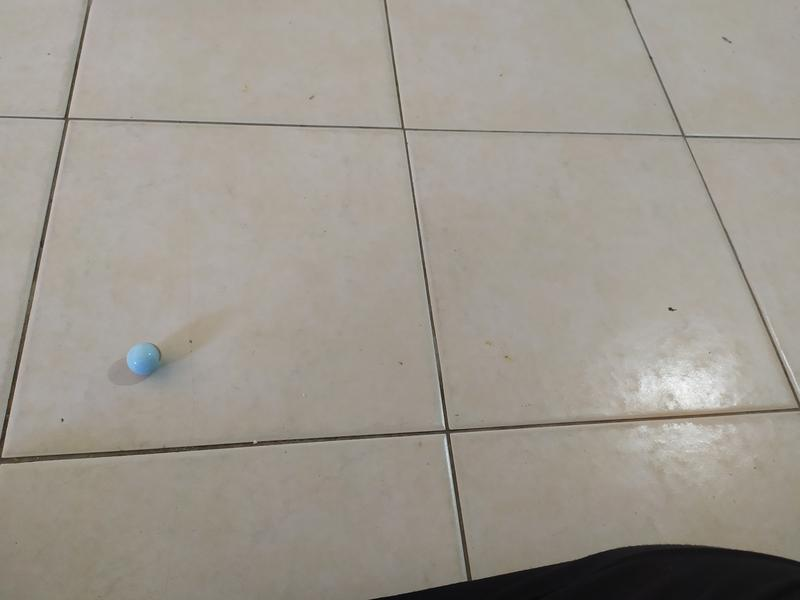Warning: (124, 340, 163, 378)
